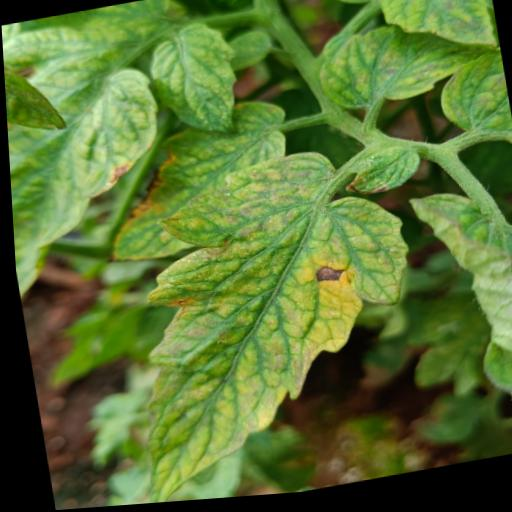Early Blight: (97, 139, 441, 507)
